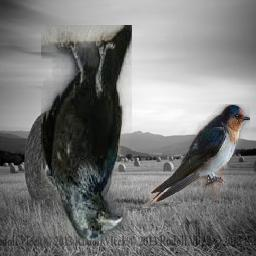Crow: (42, 25, 133, 241)
Swallow: (142, 104, 250, 208)
